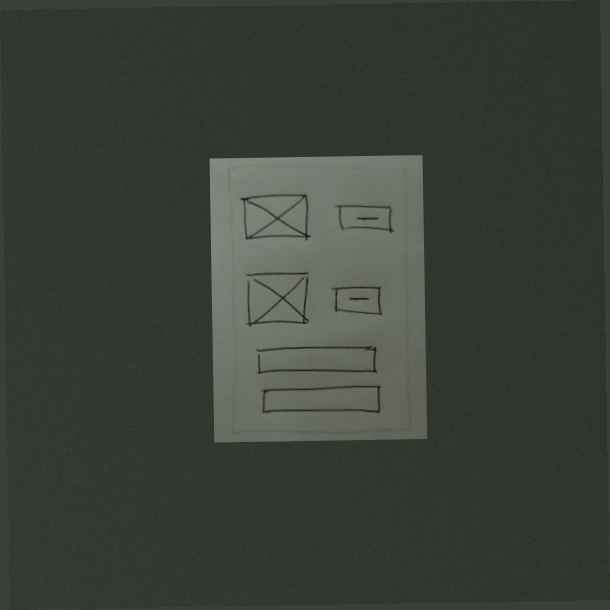button: (333, 199, 399, 238), (328, 279, 387, 321)
image: (243, 268, 312, 331), (239, 192, 318, 247)
text_input: (253, 339, 379, 378), (257, 384, 384, 418)
